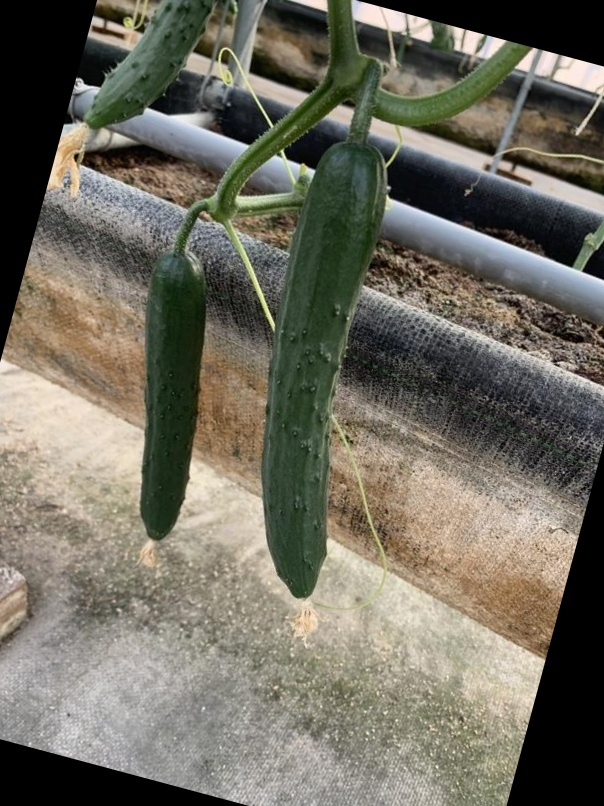mature: (257, 139, 390, 610), (131, 243, 210, 553)
